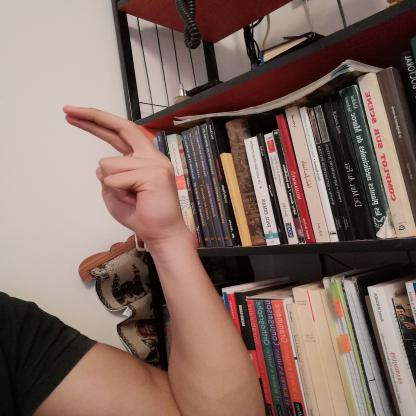ZAY: (50, 99, 198, 247)
